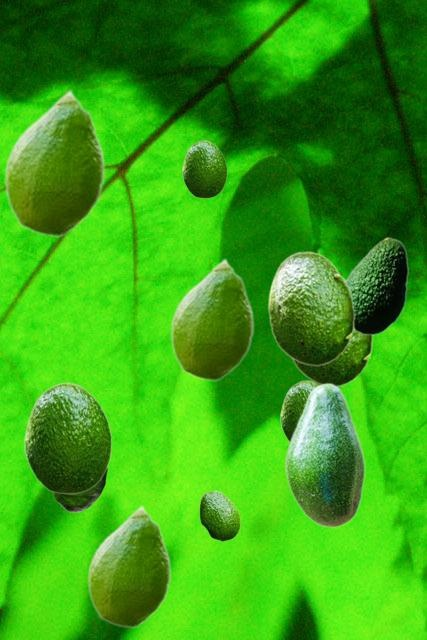avocado: (4, 88, 104, 236), (284, 382, 364, 527), (170, 257, 253, 380), (87, 504, 170, 627), (267, 251, 354, 365), (24, 382, 111, 493), (290, 278, 372, 386), (346, 237, 407, 334), (182, 140, 226, 197), (280, 380, 316, 441), (53, 473, 106, 511), (199, 490, 239, 540)
